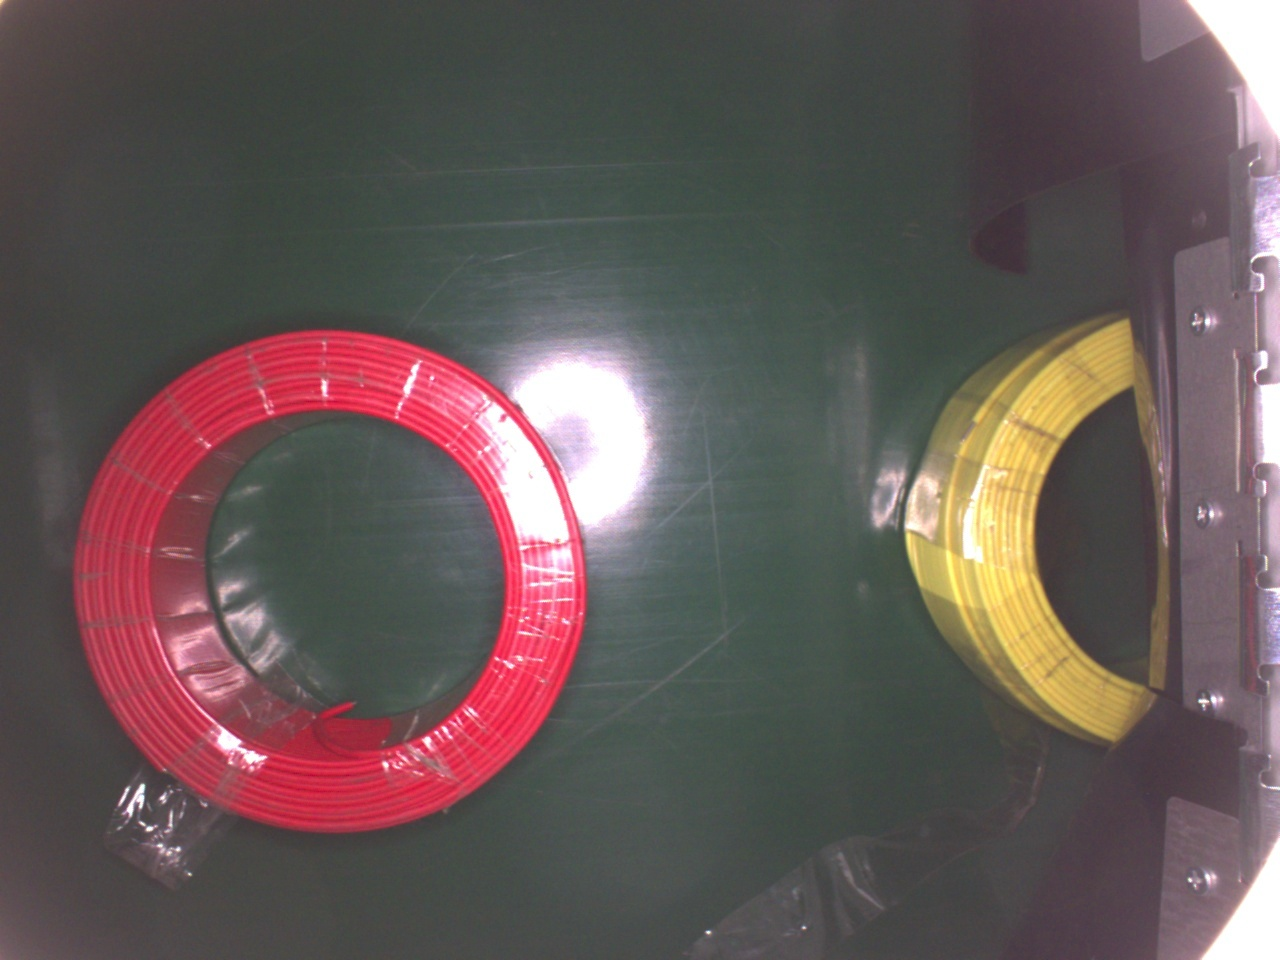red: (73, 324, 590, 841)
yellow: (901, 305, 1151, 747)
